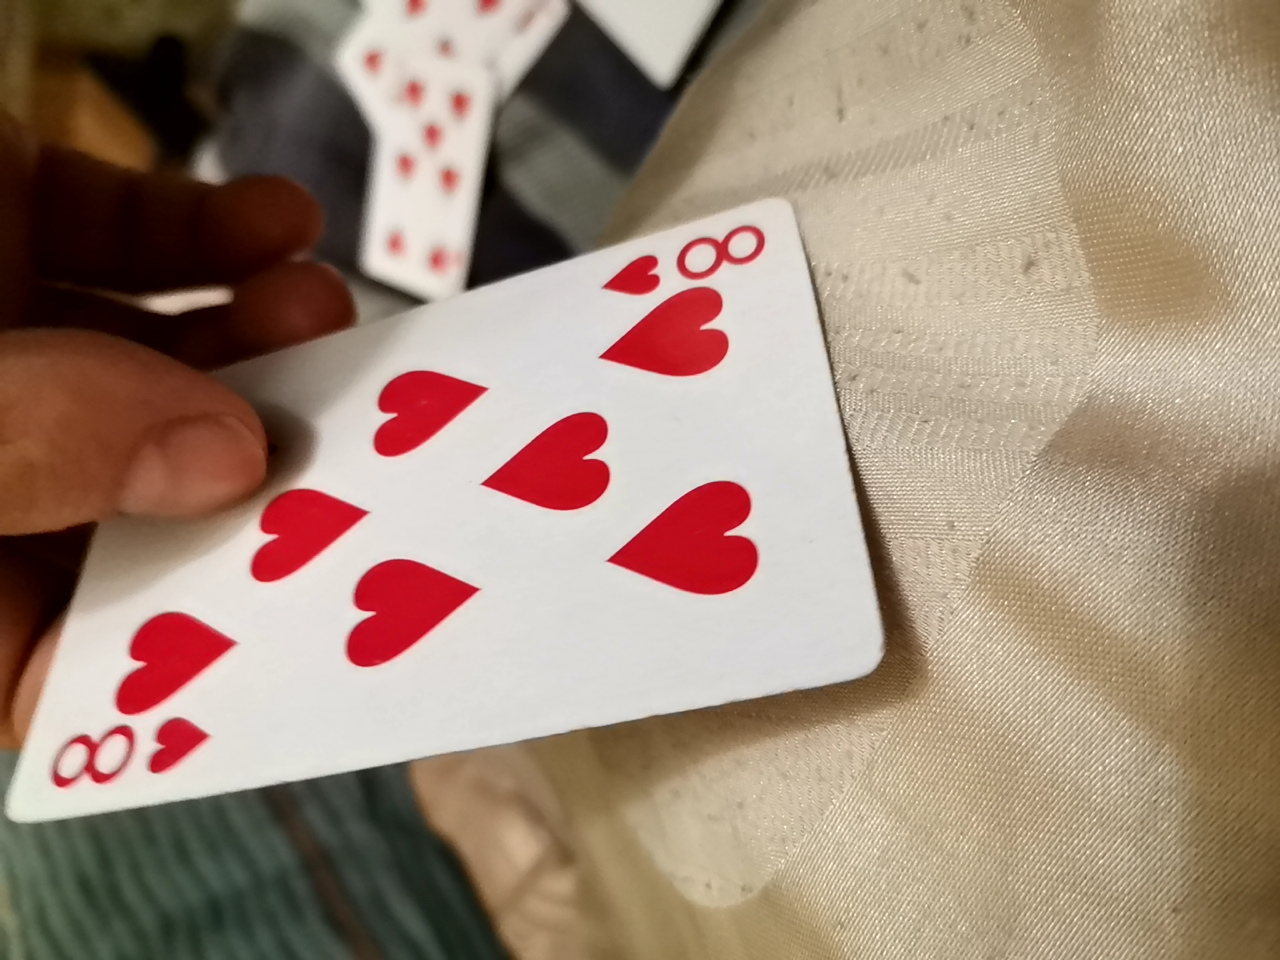hx 8: (13, 187, 885, 826)
